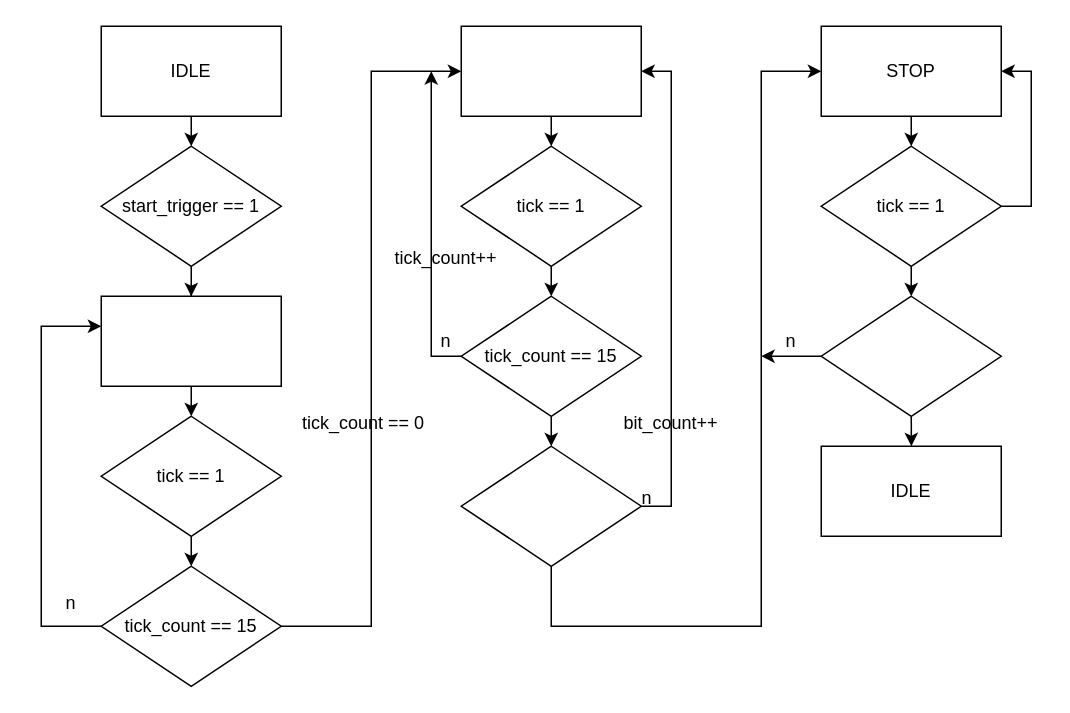
The diagram is 1070 pixels wide and 713 high, and some of its shapes have lost their labels. Here are the shapes that lost their labels. From the top down, the centre of each, then its label:
point 550,70: DATA
point 190,340: START tx == 0
point 910,355: tick_count == 1
point 550,505: bit_count == 7
